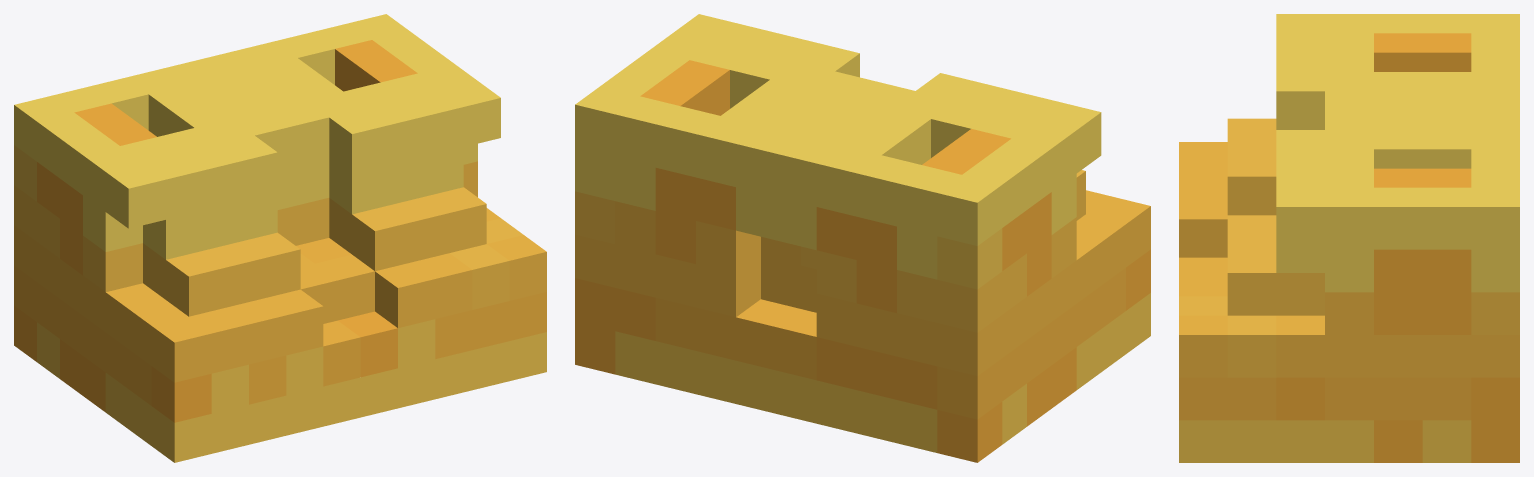
File: boots-isa-lousberg_7XCvej7wZU-blocky.glb
3 renders of one model, left to right at view 1: azimuth 30°, elevation 25°; view 2: azimuth 150°, elevation 25°; view 3: azimuth 270°, elevation 25°, orthographic. The views are drawn at different scales.
Parts seen in each view (by area): view 1: boots; view 2: boots; view 3: boots.
Part boxes in pixels (bbox=[...]): boots: bbox=[14, 14, 546, 462]; boots: bbox=[575, 14, 1150, 462]; boots: bbox=[1179, 14, 1519, 462].
Size of the model in its own units: 0.9505 by 0.5872 by 0.7092.
1 material, 1 textured.
